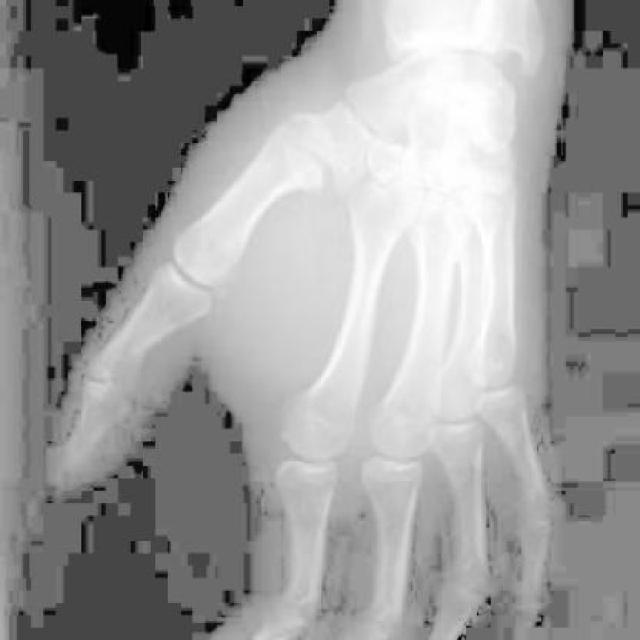Fracture: (266, 125, 344, 214)
